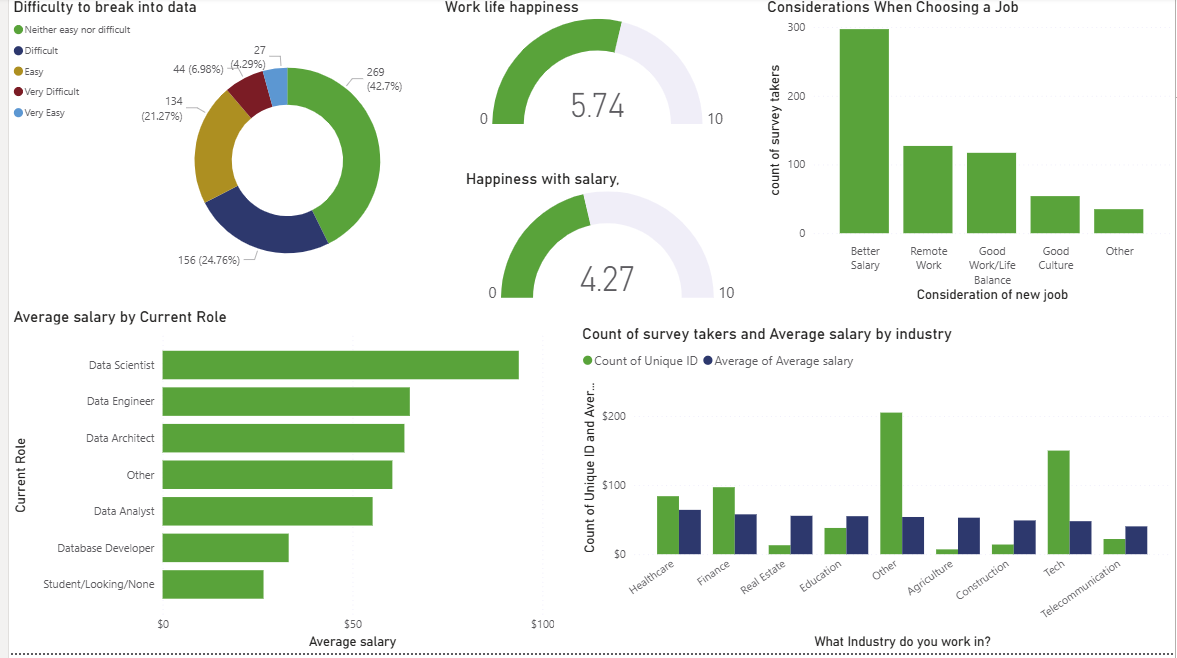

What the dashboard file says about the page in this screenshot:
{"tool":"powerbi","page":{"name":"Page 2","canvas":[1280,720],"ordinal":1},"visuals":[{"type":"donutChart","title":"Difficulty to break into data ","fields":{"Category":["Data Professional Survey.How difficult was it for you to break into Data?"],"Y":["CountNonNull(Data Professional Survey.How difficult was it for you to break into Data?)"]},"box":[0,0,473.3,340],"z":0},{"type":"clusteredBarChart","fields":{"Category":["Data Professional Survey.Current Role"],"Y":["Avg(Data Professional Survey.Average salary)"]},"box":[0,340.3,603.8,380.1],"z":1000},{"type":"clusteredColumnChart","title":"Count of survey takers and Average salary by industry","fields":{"Category":["Data Professional Survey.What Industry do you work in?"],"Y":["CountNonNull(Data Professional Survey.Unique ID)","Avg(Data Professional Survey.Average salary)"]},"box":[624.4,359.5,655.9,360.9],"z":2000},{"type":"columnChart","title":"Considerations When Choosing a Job","fields":{"Category":["Data Professional Survey.Q8 - If you were to look for a new job today, what would be the most important t"],"Y":["Data Professional Survey.count of survey takers"]},"box":[827.4,0,452.8,340.3],"z":3000},{"type":"gauge","title":"Work life happiness ","fields":{"Y":["Avg(Data Professional Survey.Q6 - How Happy are you in your Current Position with the following? (Work/Life Balance))"],"MinValue":["Min(Data Professional Survey.Q6 - How Happy are you in your Current Position with the following? (Work/Life Balance))1"],"MaxValue":["Max(Data Professional Survey.Q6 - How Happy are you in your Current Position with the following? (Work/Life Balance))2"]},"box":[473.4,0,354,149.6],"z":4000},{"type":"gauge","title":"Happiness with salary, ","fields":{"Y":["Avg(Data Professional Survey.Q6 - How Happy are you in your Current Position with the following? (Salary))"],"MinValue":["Min(Data Professional Survey.Q6 - How Happy are you in your Current Position with the following? (Salary))1"],"MaxValue":["Max(Data Professional Survey.Q6 - How Happy are you in your Current Position with the following? (Salary))2"]},"box":[496.7,189.4,329.3,150.9],"z":5000}]}

Visuals, with their boxes in screenshot pixels (x1, y1, x2, y2), scaled from the page's 1280x720 canvas onto the 1177x658 screenshot:
"Difficulty to break into data " donutChart: 0:0:435:311
clusteredBarChart - Data Professional Survey.Current Role x Avg(Data Professional Survey.Average salary): 0:311:555:657
"Count of survey takers and Average salary by industry" clusteredColumnChart: 574:329:1176:657
"Considerations When Choosing a Job" columnChart: 761:0:1176:311
"Work life happiness " gauge: 435:0:761:137
"Happiness with salary, " gauge: 457:173:760:311
